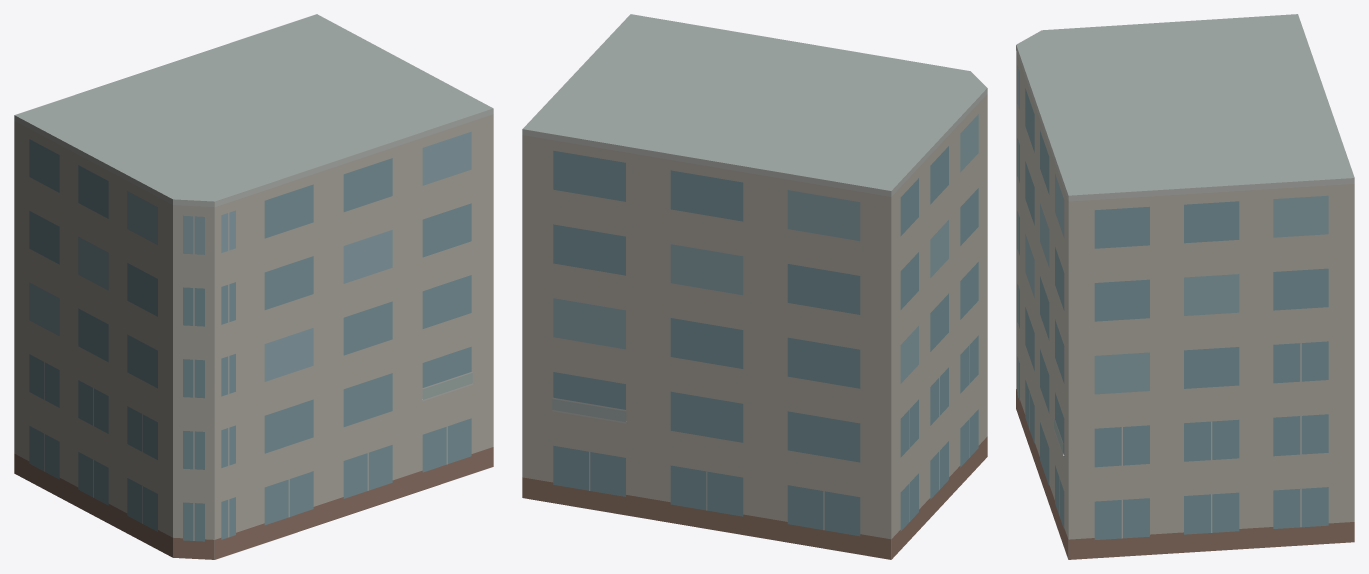
File: survey-upis-32576967.glb
3 renders of one model, left to right at view 1: azimuth 30°, elevation 25°; view 2: azimuth 150°, elevation 25°; view 3: azimuth 270°, elevation 25°, orthographic. The views are drawn at different scales.
Parts seen in each view (by area): view 1: survey-upis-32576967.tmp; view 2: survey-upis-32576967.tmp; view 3: survey-upis-32576967.tmp.
Part boxes in pixels (x1,y1,x2,y2): survey-upis-32576967.tmp: (14,14,493,559); survey-upis-32576967.tmp: (522,14,987,559); survey-upis-32576967.tmp: (1016,14,1354,559).
Size of the model in its own units: 16.48 by 15.4 by 12.99.
